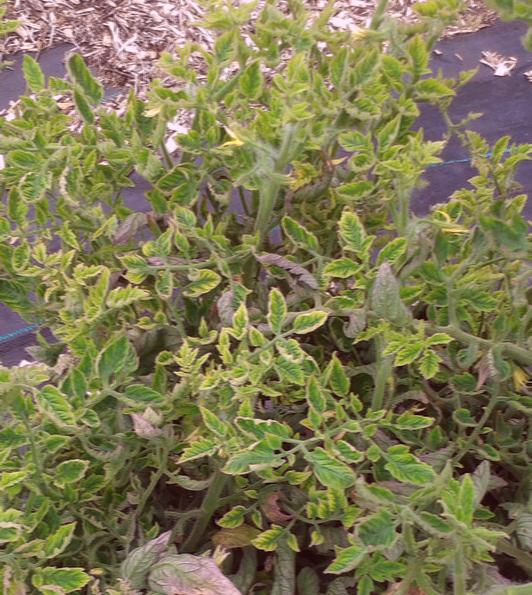Tomato leaf yellow virus: (372, 440, 442, 493), (336, 510, 401, 561), (31, 380, 86, 437), (59, 140, 103, 208), (317, 539, 376, 585), (297, 449, 359, 491), (98, 330, 137, 392), (55, 55, 107, 100), (369, 231, 410, 287), (25, 565, 92, 595), (453, 470, 479, 547), (45, 456, 99, 493), (337, 211, 374, 264), (345, 42, 381, 93), (231, 413, 280, 450), (338, 133, 383, 173), (218, 449, 280, 478), (37, 521, 80, 560), (122, 383, 172, 416), (172, 435, 219, 469), (369, 107, 405, 150), (193, 399, 229, 441), (199, 502, 252, 530), (103, 284, 152, 314), (8, 234, 35, 287), (407, 30, 431, 86), (18, 167, 54, 204), (261, 287, 289, 334), (317, 255, 359, 286), (235, 60, 265, 102), (249, 523, 291, 552), (165, 134, 211, 160), (301, 379, 330, 420), (18, 55, 49, 93), (389, 341, 428, 370), (328, 350, 352, 397), (187, 268, 220, 302), (270, 335, 303, 369), (290, 312, 329, 340), (227, 301, 253, 341), (335, 181, 381, 203), (170, 204, 196, 236)
